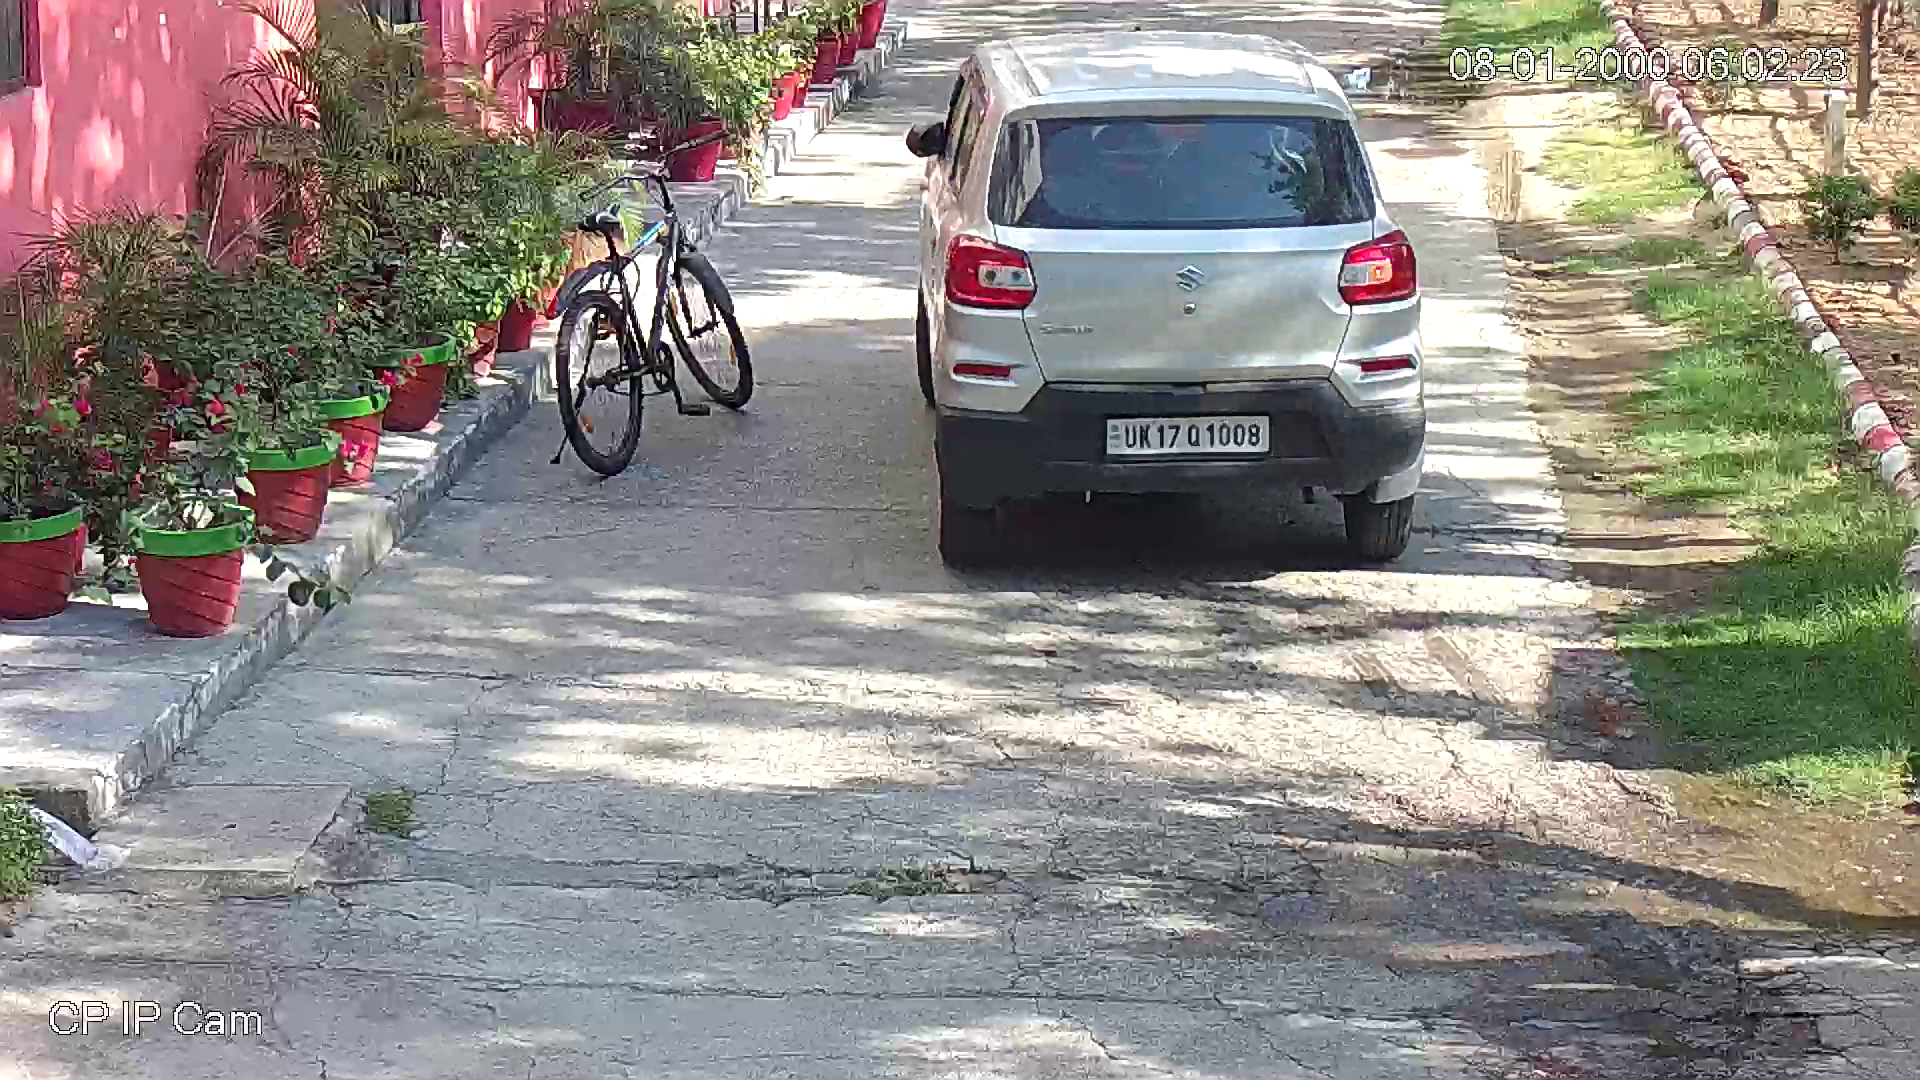plate: (1100, 410, 1275, 464)
